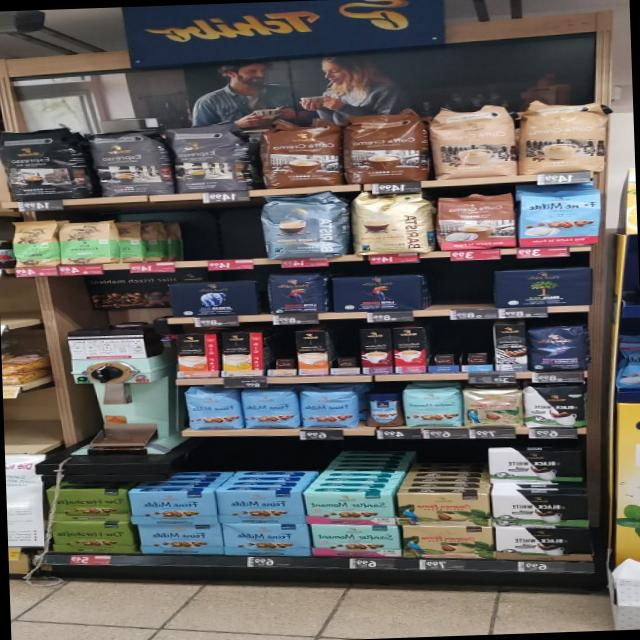CC Mild: (458, 101, 614, 178), (428, 100, 526, 178)
